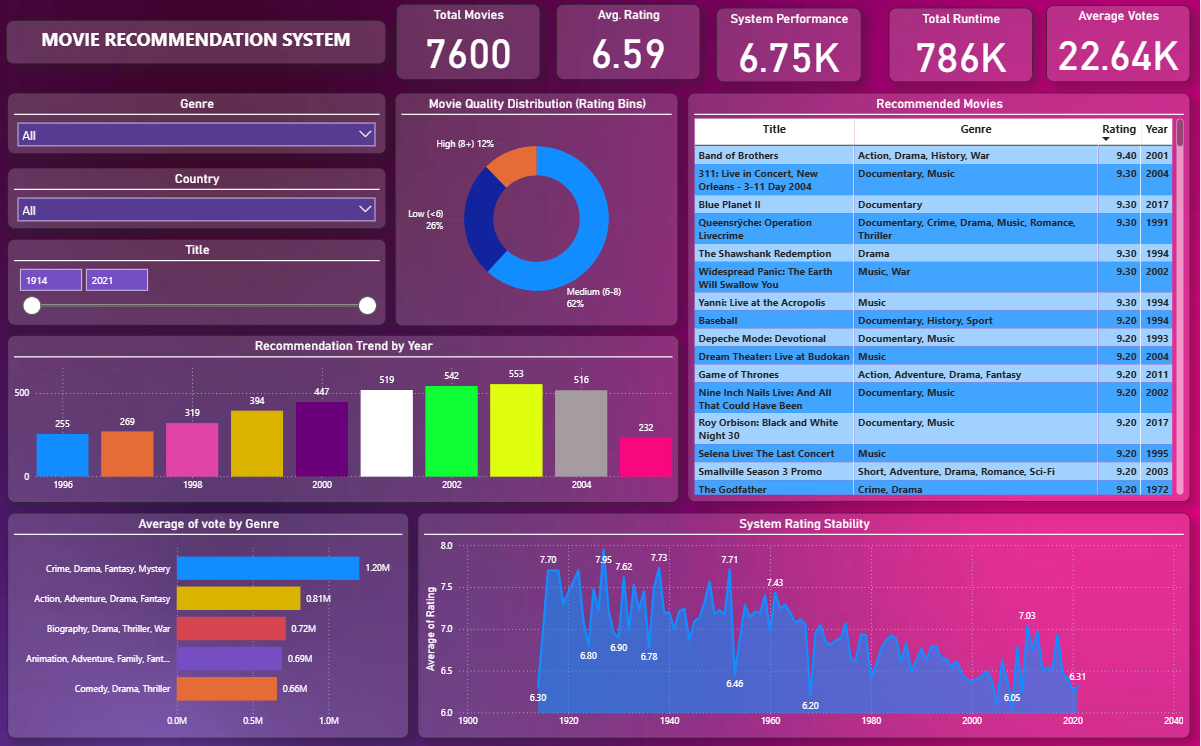

Layout of this report page (visuals, bound fields, positions):
{"tool":"powerbi","page":{"name":"Page 1","canvas":[1600,1000],"ordinal":0},"visuals":[{"type":"textbox","box":[8.1,27.7,506.2,58.6],"z":0},{"type":"card","title":"Total Movies","fields":{"Values":["movies.title"]},"box":[529,6.5,192.1,100.9],"z":1000},{"type":"card","title":"Avg. Rating","fields":{"Values":["movies.rating"]},"box":[742.2,6.5,192.1,100.9],"z":2000},{"type":"card","title":"System Performance","fields":{"Values":["movies.Match_Confidence"]},"box":[955.4,11.4,193.7,99.3],"z":3000},{"type":"slicer","title":"Genre","fields":{"Values":["movies.genre"]},"box":[9.8,125.3,504.6,81.4],"z":4000},{"type":"slicer","title":"Country","fields":{"Values":["movies.country"]},"box":[9.8,224.6,504.6,81.4],"z":5000},{"type":"card","title":"Total Runtime","fields":{"Values":["movies.runtime"]},"box":[1184.9,11.4,192.1,99.3],"z":6000},{"type":"card","title":"Average Votes","fields":{"Values":["movies.vote"]},"box":[1394.9,8.1,192.1,102.5],"z":7000},{"type":"tableEx","title":"Recommended Movies","fields":{"Values":["movies.Title","movies.genre","movies.rating","movies.year"]},"box":[916.4,125.3,670.6,545.3],"z":8000},{"type":"slicer","title":"Title","fields":{"Values":["movies.Year"]},"box":[9.8,320.6,504.6,115.6],"z":9000},{"type":"lineChart","title":"System Rating Stability","fields":{"Y":["movies.Rating"],"Category":["movies.Year"]},"box":[556.6,685.2,1030.3,301.1],"z":10000},{"type":"clusteredBarChart","fields":{"Category":["movies.Genre"],"Y":["movies.vote"]},"box":[9.8,685.2,535.5,301.1],"z":11000},{"type":"donutChart","title":"Movie Quality Distribution (Rating Bins)","fields":{"Category":["movies.Rating_Bin"],"Y":["movies.Title"]},"box":[527.4,125.3,377.6,310.9],"z":12000},{"type":"clusteredColumnChart","title":"Recommendation Trend by Year","fields":{"Category":["movies.Year"],"Y":["movies.Title"]},"box":[9.8,447.6,895.2,223],"z":12001}]}

Visuals, with their boxes in screenshot pixels (x1, y1, x2, y2), scaled from the page's 1600x1000 canvas onto the 1201x746 screenshot:
textbox: l=6, t=21, r=386, b=64
"Total Movies" card: l=397, t=5, r=541, b=80
"Avg. Rating" card: l=557, t=5, r=701, b=80
"System Performance" card: l=717, t=9, r=863, b=83
"Genre" slicer: l=7, t=93, r=386, b=154
"Country" slicer: l=7, t=168, r=386, b=228
"Total Runtime" card: l=889, t=9, r=1034, b=83
"Average Votes" card: l=1047, t=6, r=1191, b=83
"Recommended Movies" tableEx: l=688, t=93, r=1191, b=500
"Title" slicer: l=7, t=239, r=386, b=325
"System Rating Stability" lineChart: l=418, t=511, r=1191, b=736
clusteredBarChart - movies.Genre x movies.vote: l=7, t=511, r=409, b=736
"Movie Quality Distribution (Rating Bins)" donutChart: l=396, t=93, r=679, b=325
"Recommendation Trend by Year" clusteredColumnChart: l=7, t=334, r=679, b=500
